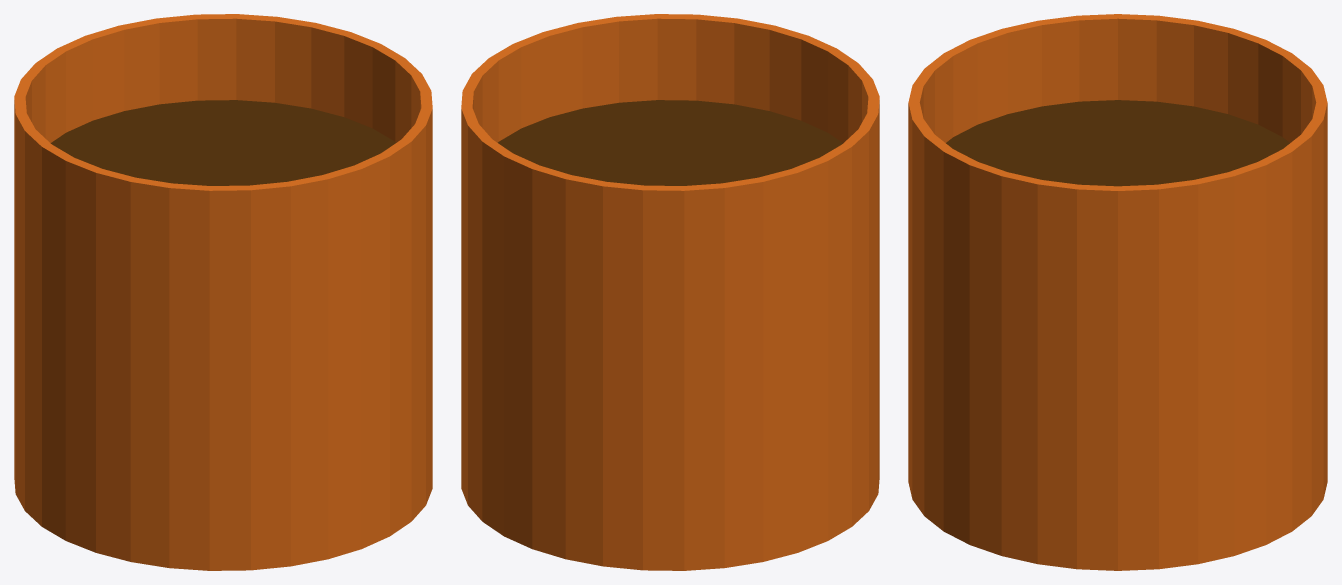
The model's file is Gorshochek.fbx.
3 views of the same model, side by side, from view 1: azimuth 30°, elevation 25°; view 2: azimuth 150°, elevation 25°; view 3: azimuth 270°, elevation 25° (orthographic).
Visible parts, largest first — view 1: Цилиндр; view 2: Цилиндр; view 3: Цилиндр.
Boxes of the visible parts, x1,y1,x2,y2 form: Цилиндр: [14, 14, 432, 570]; Цилиндр: [461, 14, 879, 570]; Цилиндр: [908, 14, 1327, 570].
Size of the model in its own units: 200 by 200 by 200.
